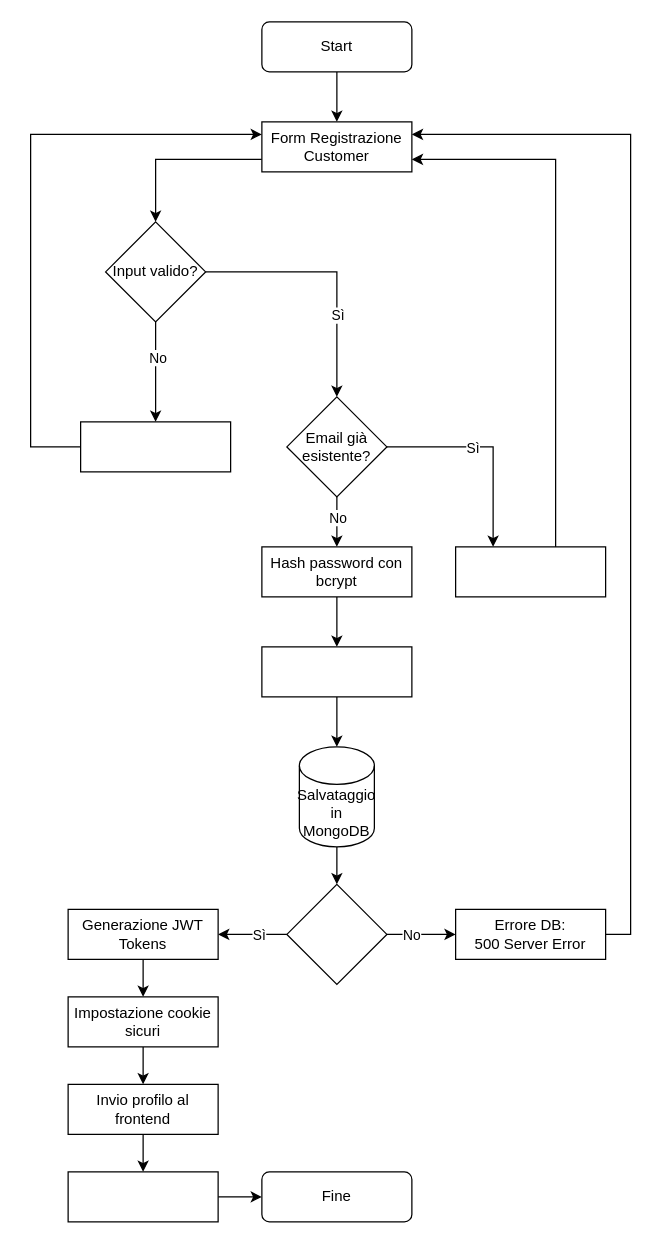
Some shapes in this 663 by 1244 pixel diagram are drawn without their labels. Each missing label, with the box of its shape:
Creazione utente con ruolo customer: (261, 646, 412, 697)
Messaggio: email già registrata: (454, 546, 606, 597)
Mostra errori validazione: (79, 421, 231, 472)
Redirect alla Homepage: (67, 1171, 218, 1222)
Salvataggio riuscito: (286, 883, 387, 984)
